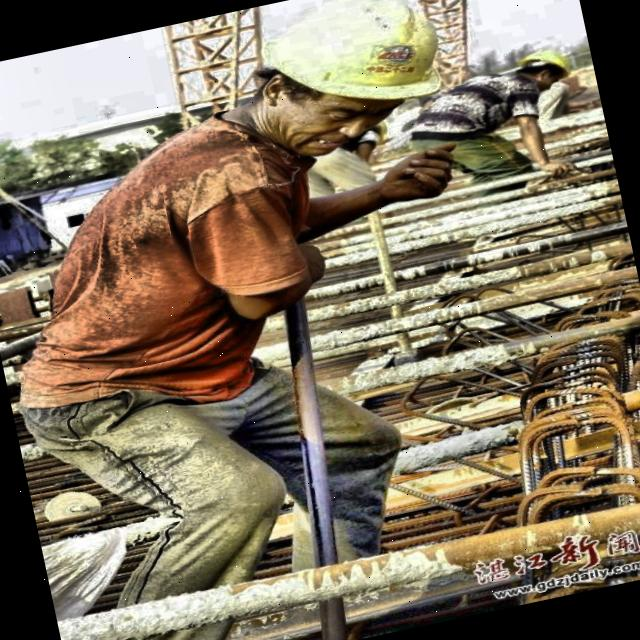helmet: (204, 0, 488, 176), (502, 40, 580, 99)
